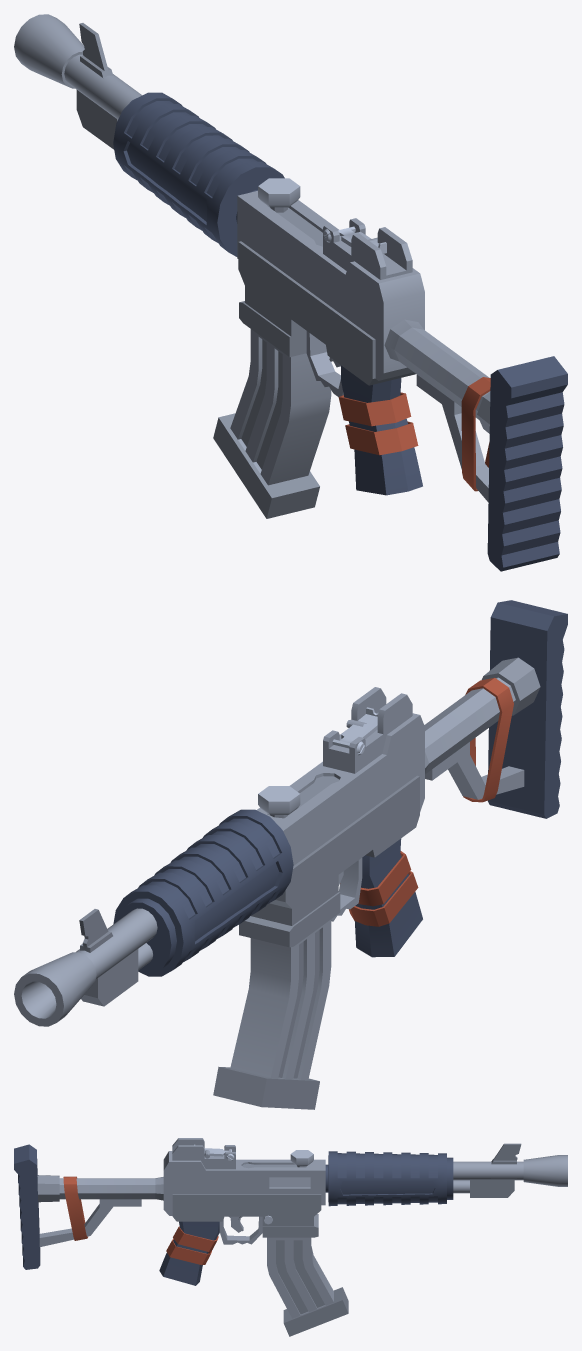
3 views of the same model, one above another, from view 1: azimuth 30°, elevation 25°; view 2: azimuth 150°, elevation 25°; view 3: azimuth 270°, elevation 25° (orthographic). The views are drawn at different scales.
Visible parts, largest first — view 1: AssaultRifle, Magazine, Bolt; view 2: AssaultRifle, Magazine, Bolt; view 3: AssaultRifle, Magazine, Bolt.
Part boxes in pixels (x1,y1,x2,y2): AssaultRifle: (14, 14, 567, 571); Magazine: (213, 329, 331, 518); Bolt: (258, 178, 300, 212); AssaultRifle: (14, 600, 567, 1026); Magazine: (213, 919, 331, 1109); Bolt: (258, 786, 300, 818); AssaultRifle: (14, 1138, 567, 1285); Magazine: (267, 1237, 348, 1336); Bolt: (269, 1150, 313, 1187).
Size of the model in its own units: 8.82 by 37.51 by 100.
